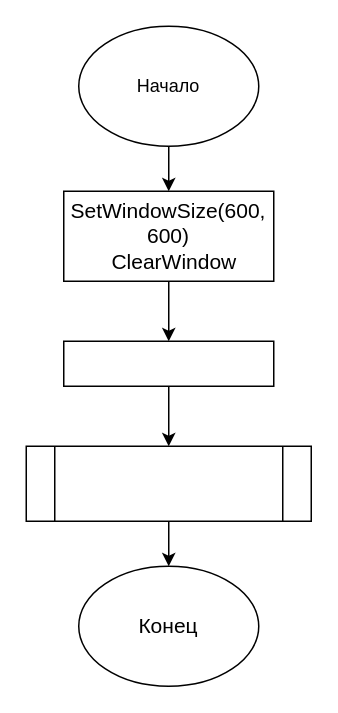
Image size: 338x713. Some labels were removed from this diagram. The centre of each missing label's shape, as x and y in pixels:
ClearWindow: point (168, 363)
ThreeSidesDraw(300,5): point (168, 483)
